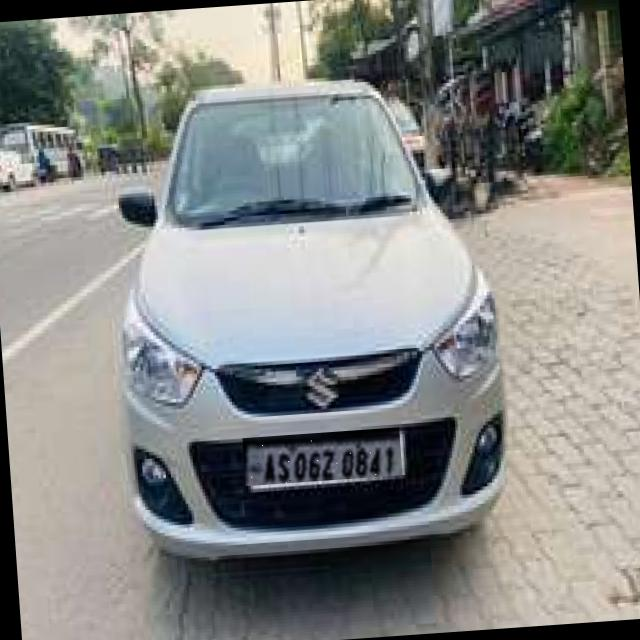Plate: (243, 428, 403, 487)
